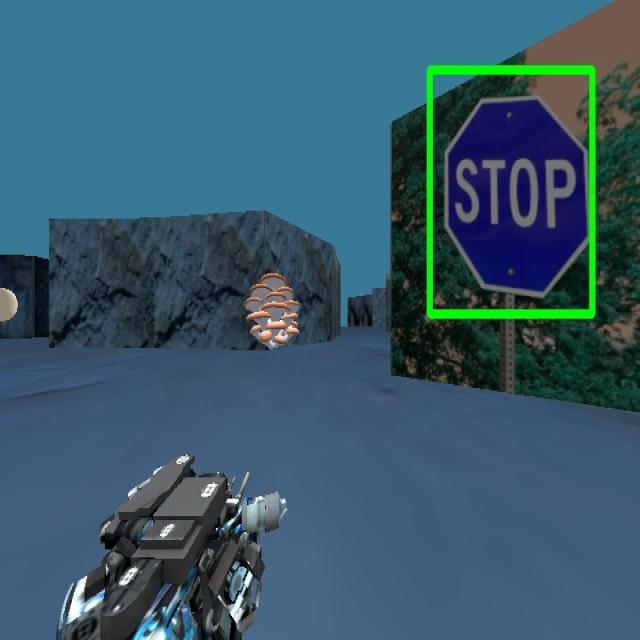Circle: (0, 268, 24, 340)
Mushroom: (243, 271, 300, 349)
Stop_Sign: (425, 61, 596, 320)
